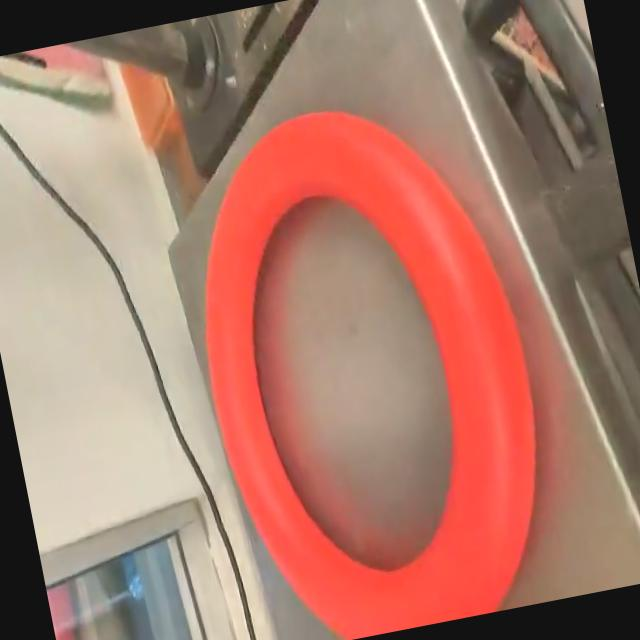note: (157, 75, 573, 640)
